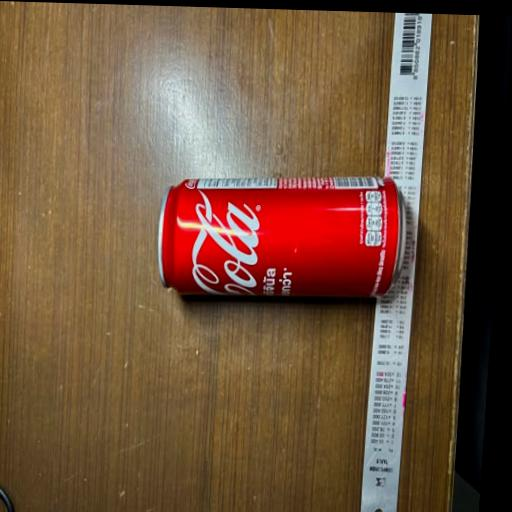canned: (120, 125, 421, 328)
